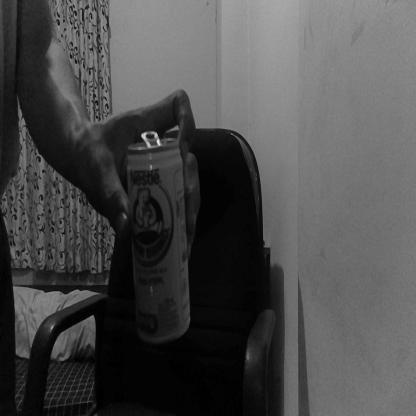alumunium_can: (126, 129, 192, 348)
